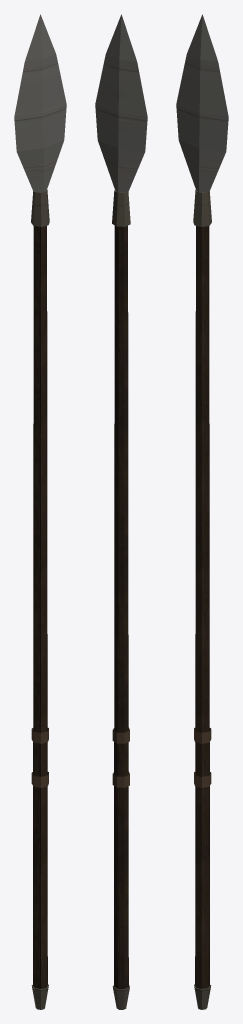
Rendered from wpn_spear_common.glb.
3 renders of one model, left to right at view 1: azimuth 30°, elevation 25°; view 2: azimuth 150°, elevation 25°; view 3: azimuth 330°, elevation 25°, orthographic.
Parts seen in each view (by area): view 1: wpn_spear_common; view 2: wpn_spear_common; view 3: wpn_spear_common.
Boxes of the visible parts, x1,y1,x2,y2 form: wpn_spear_common: (14, 14, 66, 1009); wpn_spear_common: (95, 14, 147, 1009); wpn_spear_common: (176, 14, 228, 1009).
Size of the model in its own units: 0.1499 by 2.71 by 0.0457.
Materials: 4 (3 with a texture image).
